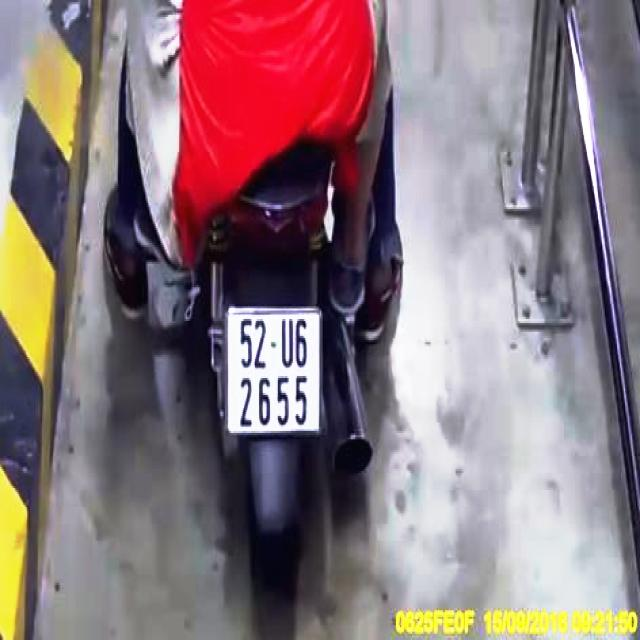license_plate: (230, 313, 322, 435)
